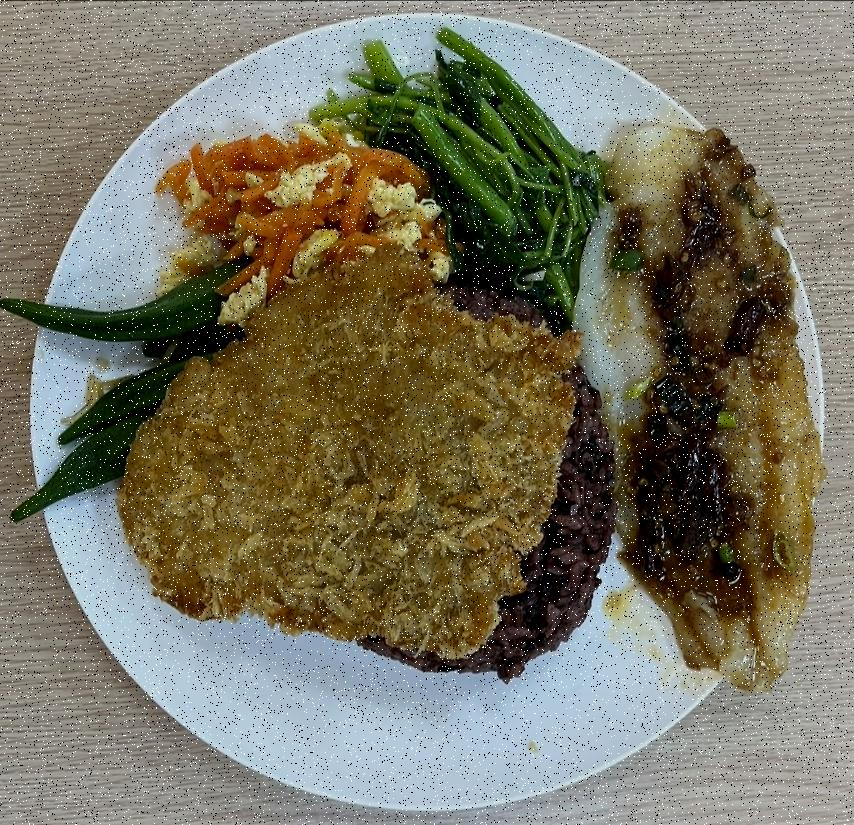braised fish fillet: (574, 117, 820, 682)
fried pork chops: (117, 248, 574, 666)
plate: (28, 4, 829, 821)
purple rice: (382, 278, 615, 689)
side dish: (344, 31, 597, 306), (2, 257, 250, 537), (174, 122, 446, 298)
